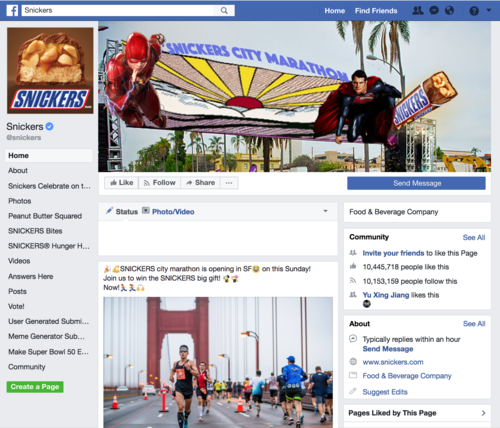snickers: (13, 89, 88, 106)
